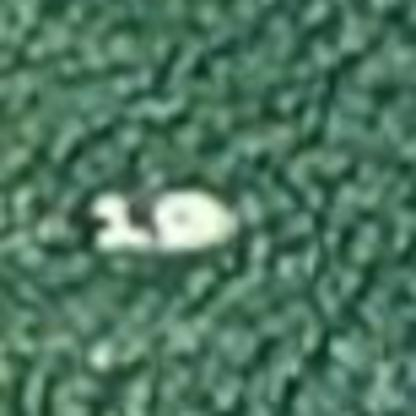ship: (74, 182, 260, 263)
